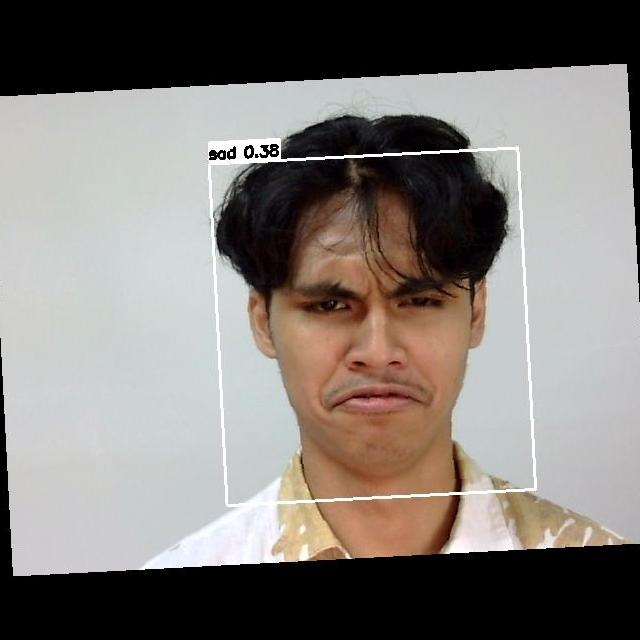Sad: (262, 243, 489, 452)
